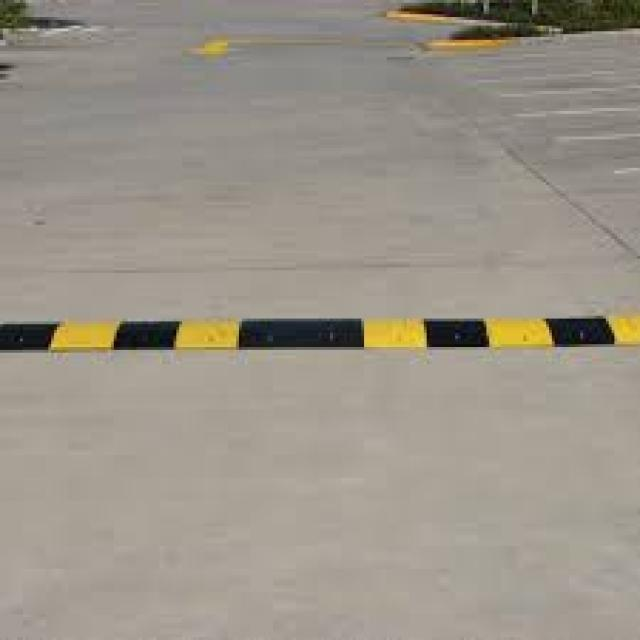speed-bump: (0, 272, 640, 394)
